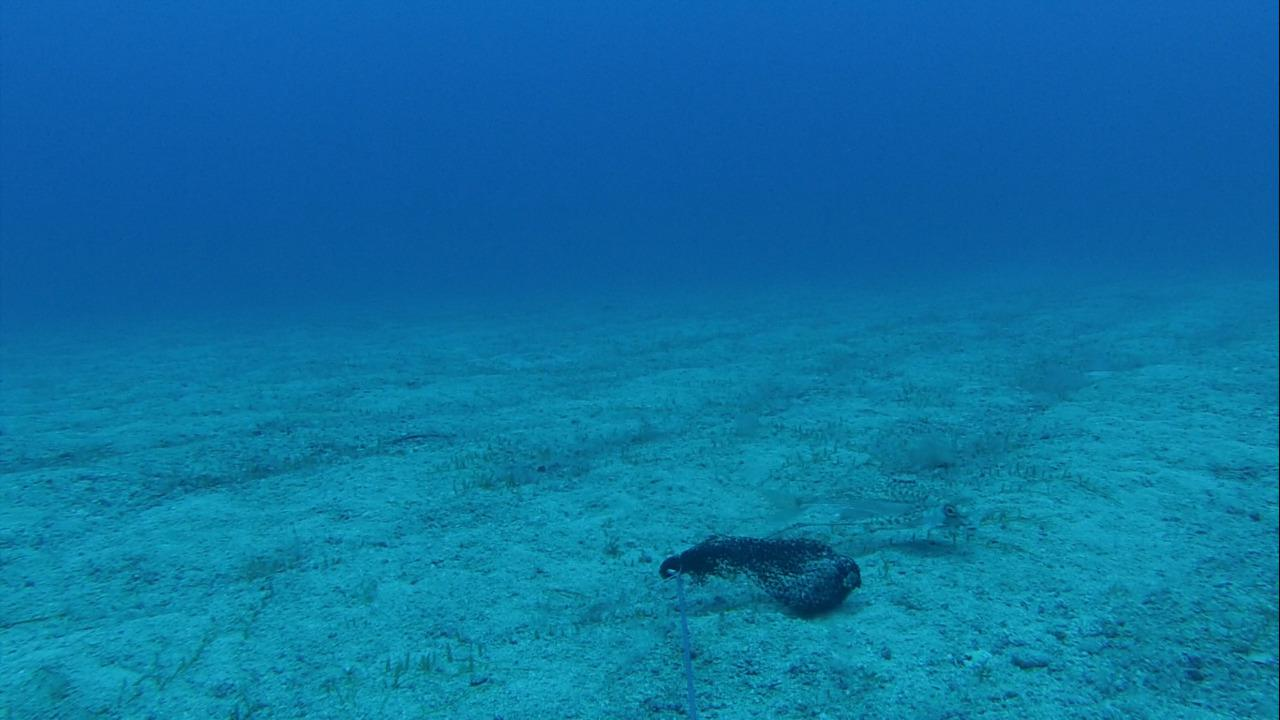dactylopterus: (747, 475, 972, 558)
